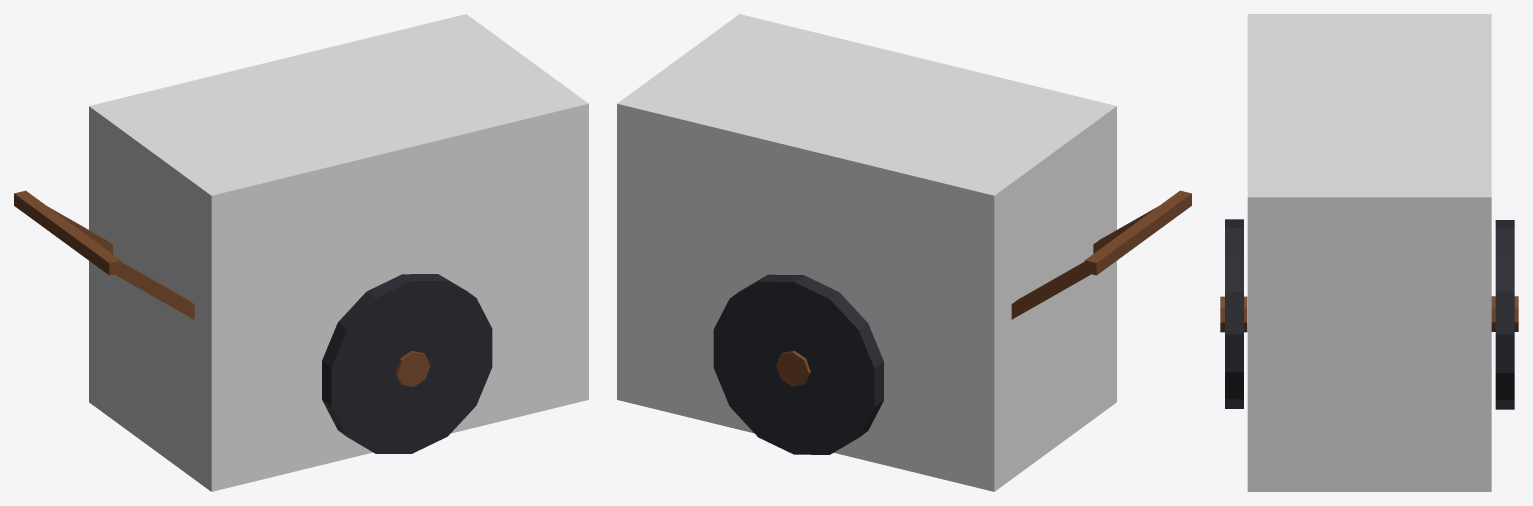
Rendered from prop_cart_a.glb.
The picture shows the model from 3 angles, left to right: view 1: azimuth 30°, elevation 25°; view 2: azimuth 150°, elevation 25°; view 3: azimuth 270°, elevation 25°; orthographic projection.
Parts seen in each view (by area): view 1: COL_prop_cart_a_1, prop_cart_a; view 2: COL_prop_cart_a_1, prop_cart_a; view 3: COL_prop_cart_a_1, prop_cart_a.
Boxes of the visible parts, x1=… form: COL_prop_cart_a_1: x1=89, y1=14, x2=588, y2=491; prop_cart_a: x1=14, y1=190, x2=492, y2=453; COL_prop_cart_a_1: x1=617, y1=14, x2=1116, y2=491; prop_cart_a: x1=713, y1=190, x2=1191, y2=454; COL_prop_cart_a_1: x1=1247, y1=14, x2=1491, y2=491; prop_cart_a: x1=1220, y1=219, x2=1518, y2=409.
Bounding box in the file's own units: 1.98 × 1.2 × 1.1.
